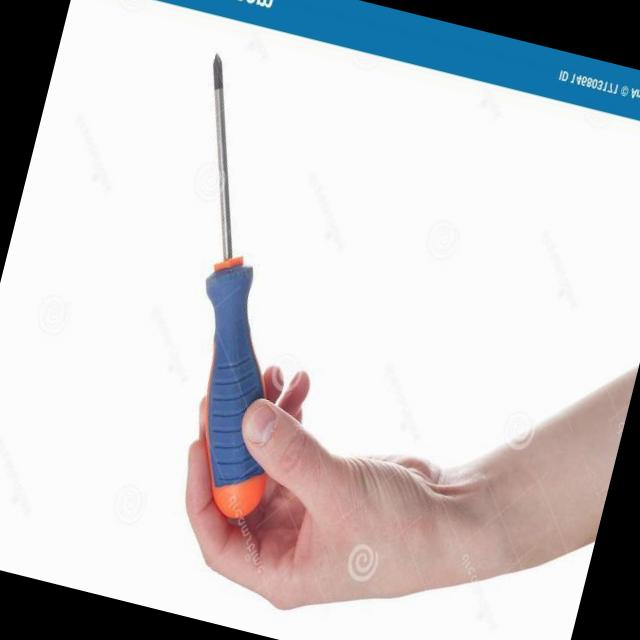screwdriver: (205, 55, 267, 519)
